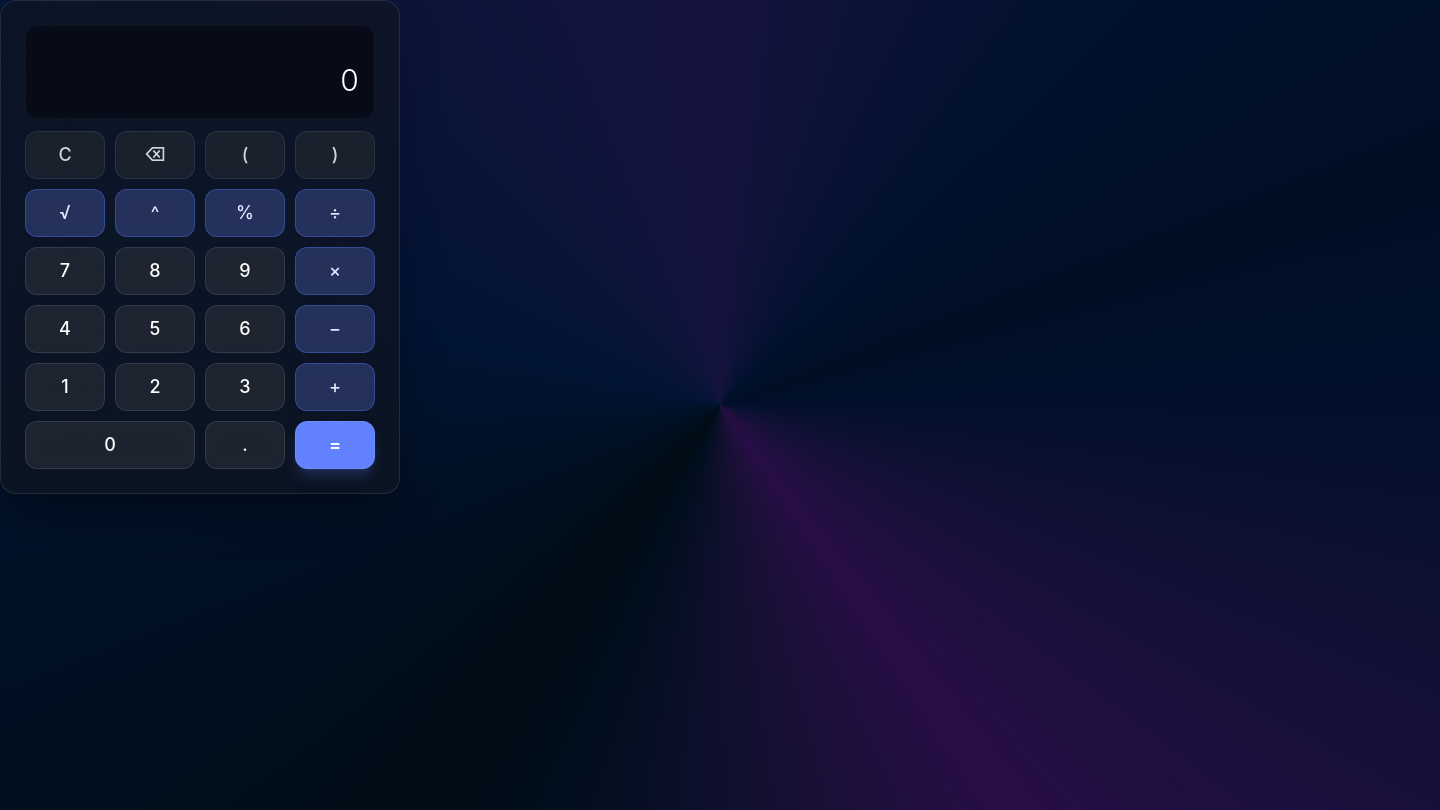
Test: Calculator › error from API shows error message
Click the button "1". click: (65, 387)
box: [25,363,105,411]
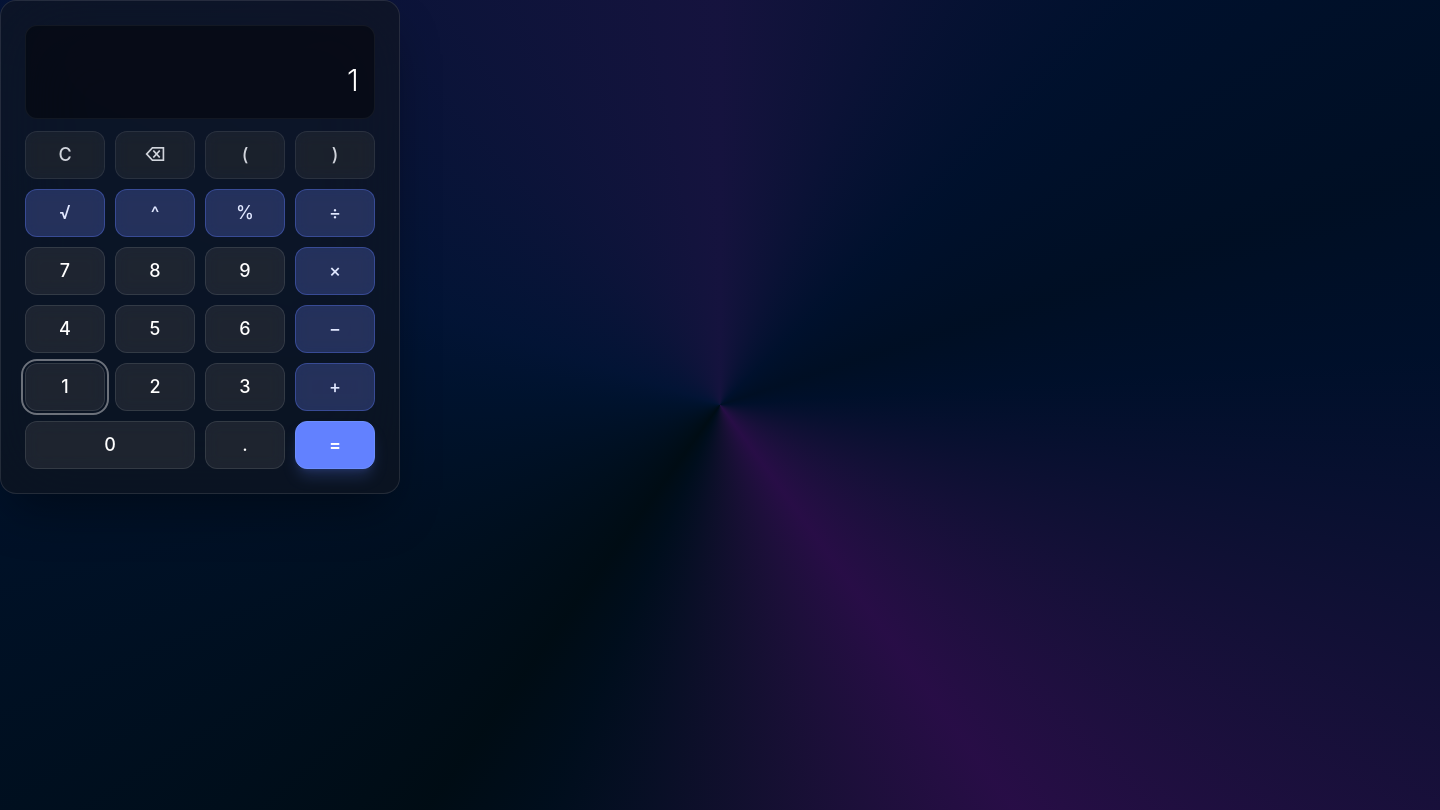
Click the button "0". click: (110, 445)
box: [25,421,195,469]
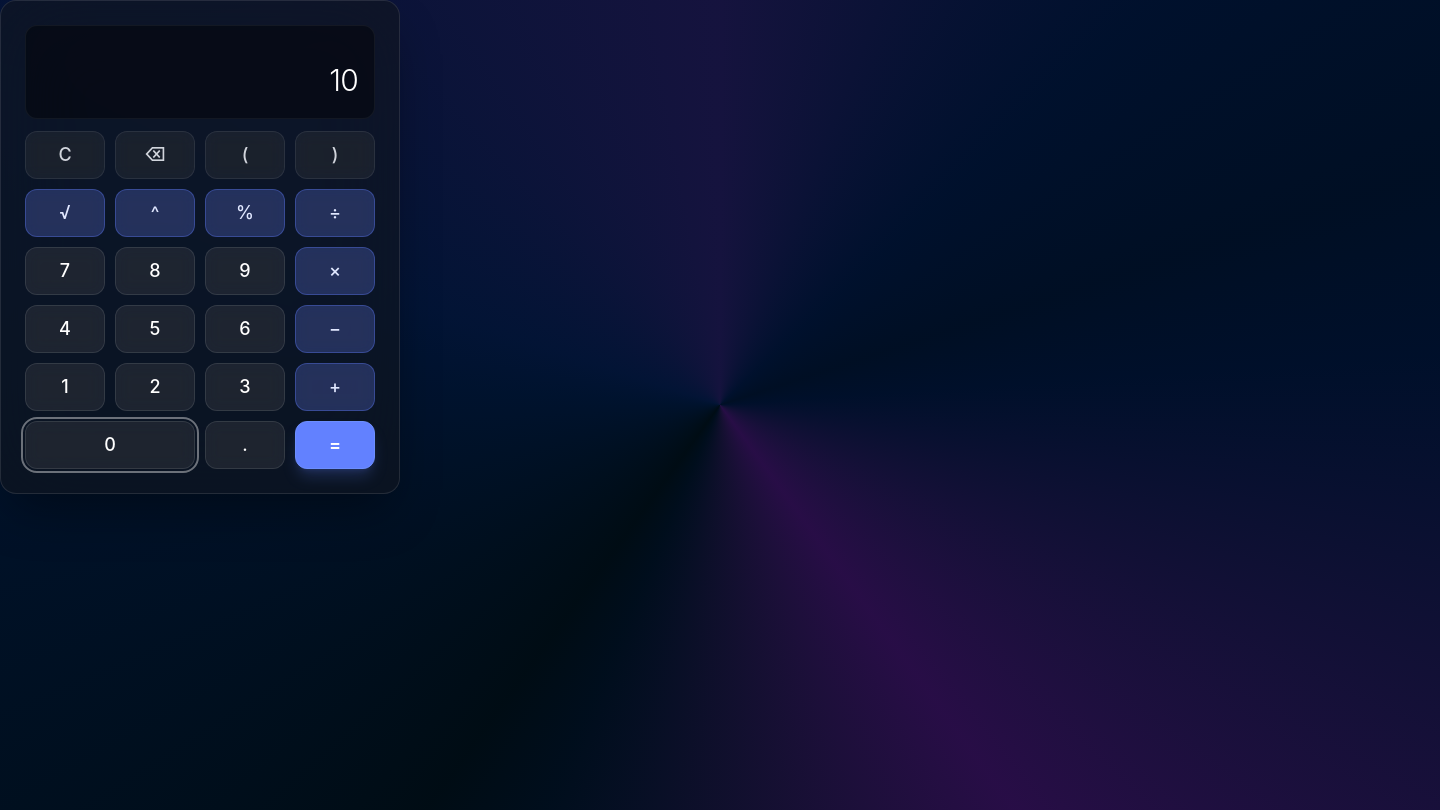
Click the button named "divide". click: (335, 213)
box: [295,189,375,237]
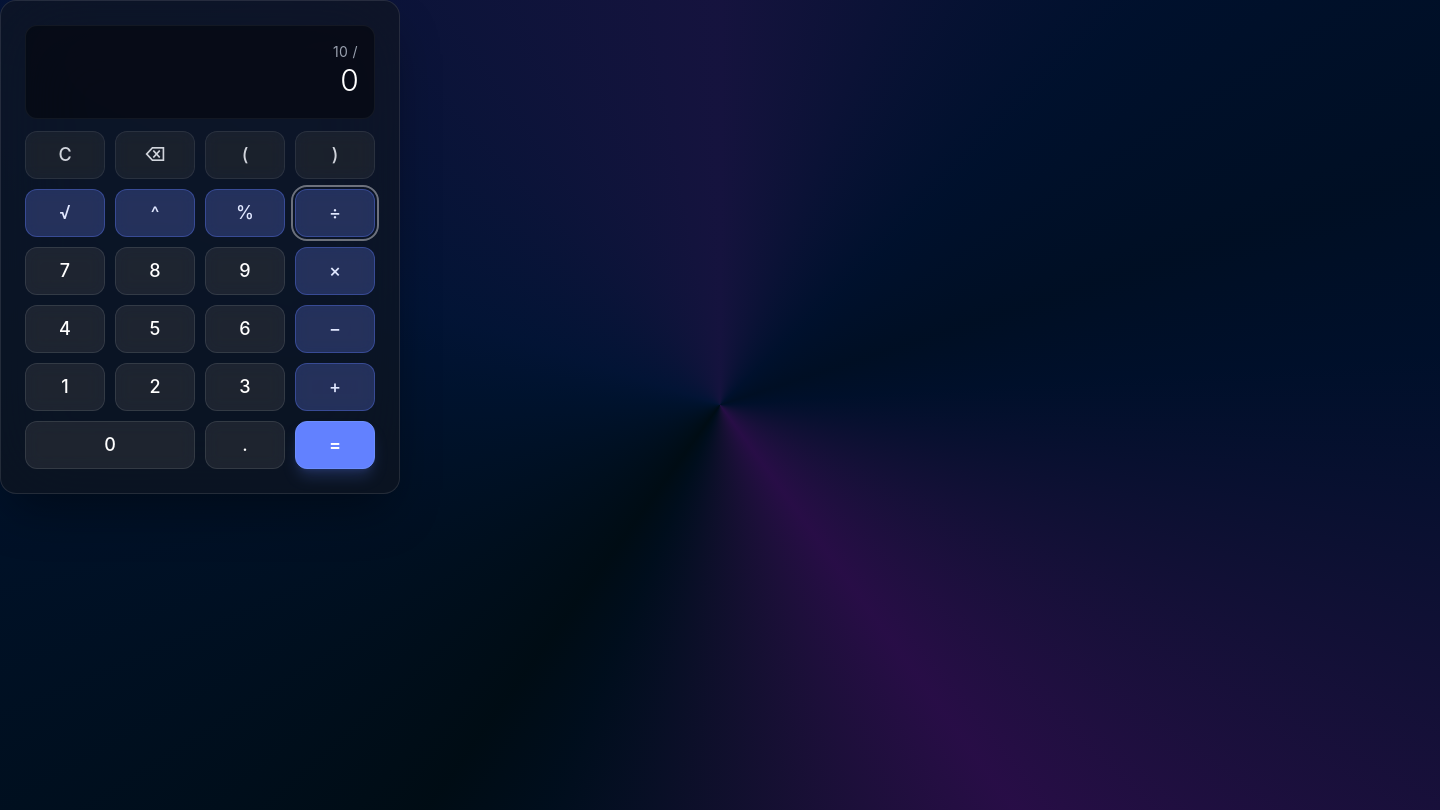
Click the button "0". click: (110, 445)
box: [25,421,195,469]
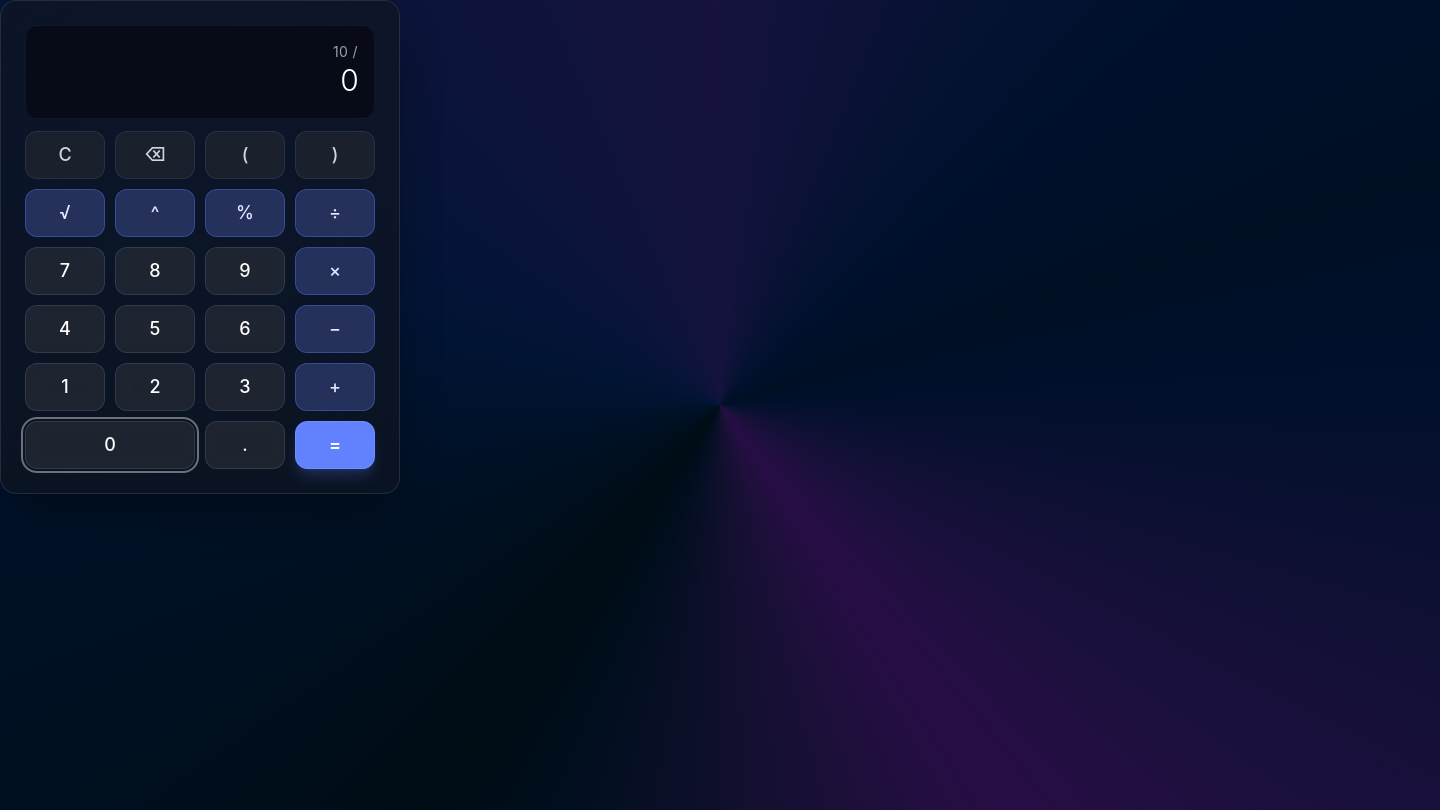
Click the button "=". click: (335, 445)
box: [295,421,375,469]
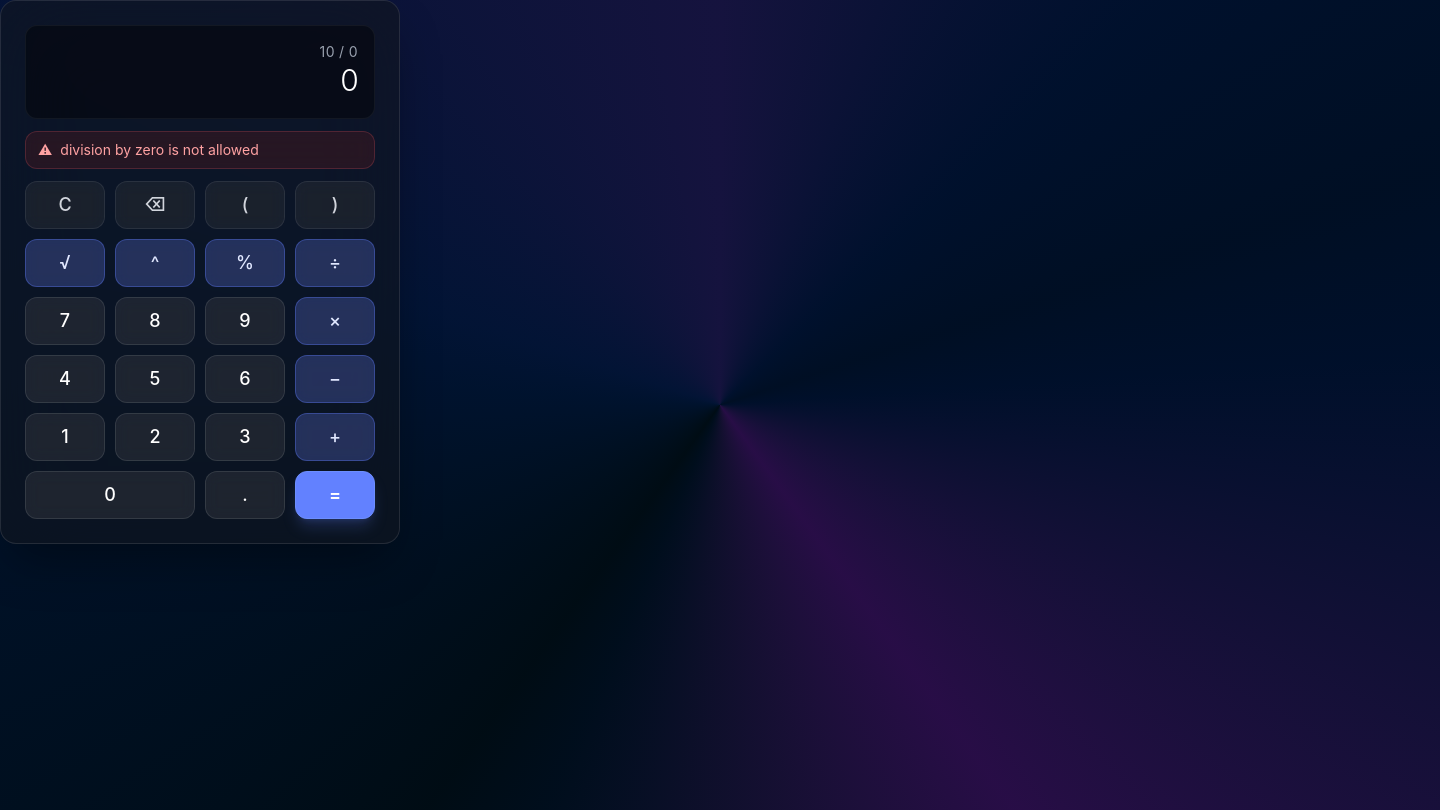
Expected: the message shows "division by zero is not allowed", [60,141,259,158]
